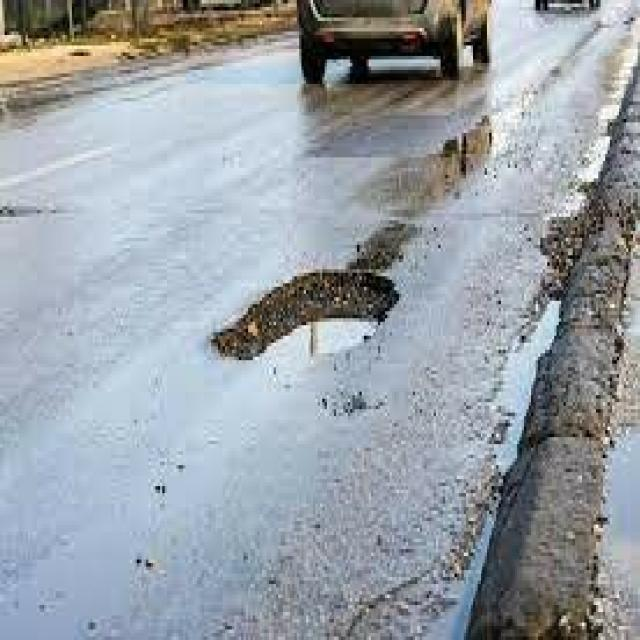Pothole: (202, 238, 450, 472)
